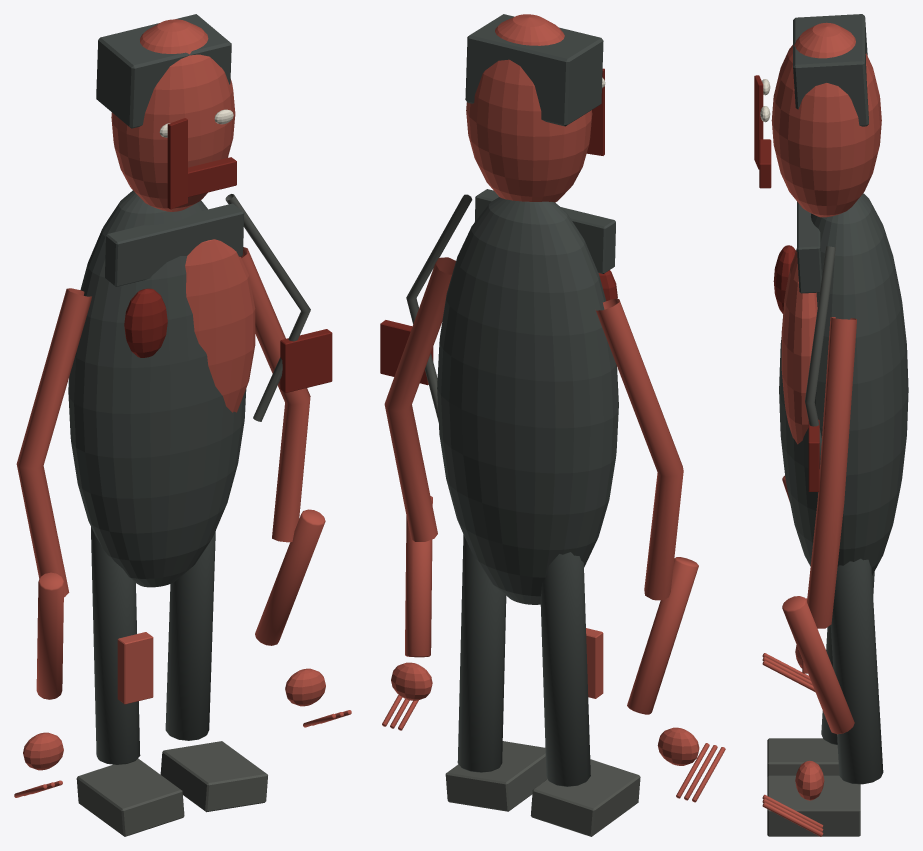
File: dz_enemy_runner_male_B.glb
3 views of the same model, side by side, from view 1: azimuth 30°, elevation 25°; view 2: azimuth 150°, elevation 25°; view 3: azimuth 270°, elevation 25° (orthographic).
Visible parts, largest first — view 1: dz_torso_core, dz_head_forward, dz_chest_infected_growth, dz_limb_arm_L, dz_limb_leg_R, dz_limb_leg_L, dz_low_hood_fast, dz_torn_collar_male, dz_limb_arm_R, dz_foot_drag_L, dz_foot_drag_R, dz_limb_forearm_R (+9 smaller); view 2: dz_torso_core, dz_head_forward, dz_limb_leg_L, dz_limb_leg_R, dz_limb_arm_L, dz_low_hood_fast, dz_limb_arm_R, dz_foot_drag_L, dz_foot_drag_R, dz_limb_forearm_L, dz_limb_forearm_R, dz_torn_collar_male (+6 smaller); view 3: dz_torso_core, dz_head_forward, dz_limb_leg_R, dz_limb_arm_R, dz_low_hood_fast, dz_chest_infected_growth, dz_foot_drag_R, dz_limb_forearm_R, dz_foot_drag_L, dz_variant_B_loose_cable_or_hair, dz_torn_collar_male, dz_hand_claw_R (+7 smaller).
Boxes of the visible parts, x1=… form: dz_torso_core: x1=68, y1=190, x2=246, y2=587; dz_head_forward: x1=111, y1=19, x2=235, y2=211; dz_chest_infected_growth: x1=185, y1=239, x2=255, y2=412; dz_limb_arm_L: x1=16, y1=288, x2=91, y2=597; dz_limb_leg_R: x1=165, y1=530, x2=215, y2=740; dz_limb_leg_L: x1=91, y1=527, x2=140, y2=764; dz_low_hood_fast: x1=96, y1=14, x2=231, y2=128; dz_torn_collar_male: x1=105, y1=203, x2=244, y2=286; dz_limb_arm_R: x1=241, y1=247, x2=310, y2=542; dz_foot_drag_L: x1=76, y1=758, x2=184, y2=836; dz_foot_drag_R: x1=160, y1=741, x2=267, y2=812; dz_limb_forearm_R: x1=255, y1=509, x2=325, y2=645; dz_torso_core: x1=437, y1=197, x2=618, y2=604; dz_head_forward: x1=466, y1=14, x2=592, y2=202; dz_limb_leg_L: x1=540, y1=552, x2=590, y2=786; dz_limb_leg_R: x1=457, y1=534, x2=506, y2=772; dz_limb_arm_L: x1=595, y1=299, x2=683, y2=600; dz_low_hood_fast: x1=465, y1=14, x2=603, y2=126; dz_limb_arm_R: x1=384, y1=257, x2=455, y2=541; dz_foot_drag_L: x1=530, y1=759, x2=640, y2=836; dz_foot_drag_R: x1=445, y1=741, x2=547, y2=811; dz_limb_forearm_L: x1=627, y1=557, x2=698, y2=714; dz_limb_forearm_R: x1=405, y1=496, x2=432, y2=657; dz_torn_collar_male: x1=475, y1=189, x2=615, y2=273; dz_torso_core: x1=779, y1=193, x2=908, y2=575; dz_head_forward: x1=771, y1=22, x2=881, y2=217; dz_limb_leg_R: x1=830, y1=558, x2=883, y2=784; dz_limb_arm_R: x1=807, y1=317, x2=856, y2=628; dz_low_hood_fast: x1=793, y1=14, x2=868, y2=126; dz_chest_infected_growth: x1=781, y1=251, x2=817, y2=444; dz_foot_drag_R: x1=767, y1=775, x2=860, y2=836; dz_limb_forearm_R: x1=782, y1=596, x2=854, y2=734; dz_foot_drag_L: x1=767, y1=738, x2=839, y2=776; dz_variant_B_loose_cable_or_hair: x1=805, y1=246, x2=835, y2=468; dz_torn_collar_male: x1=797, y1=202, x2=821, y2=293; dz_hand_claw_R: x1=795, y1=760, x2=824, y2=800.
Size of what is drawn, in the model's own units: 0.8538 by 2.03 by 0.3633.
